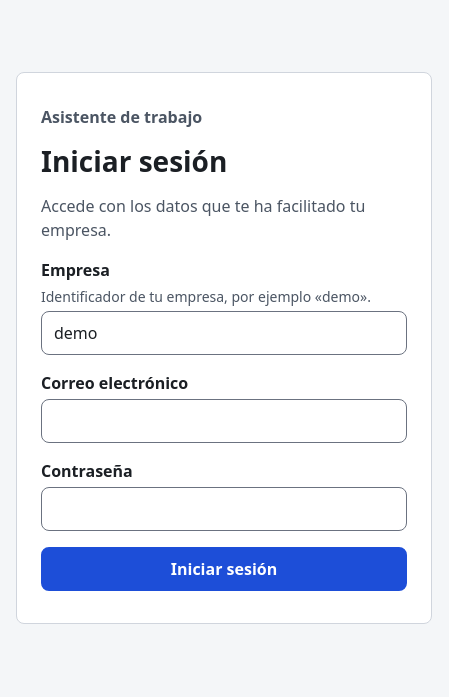
it: LoginPage › announces when the server cannot be reached
Expected: the heading "Iniciar sesión" is shown, [41,142,227,180]
Type "admin@demo.test" into the field labelled "Correo electrónico".
click(224, 421); type("admin@demo.test")  # box [41,399,407,443]
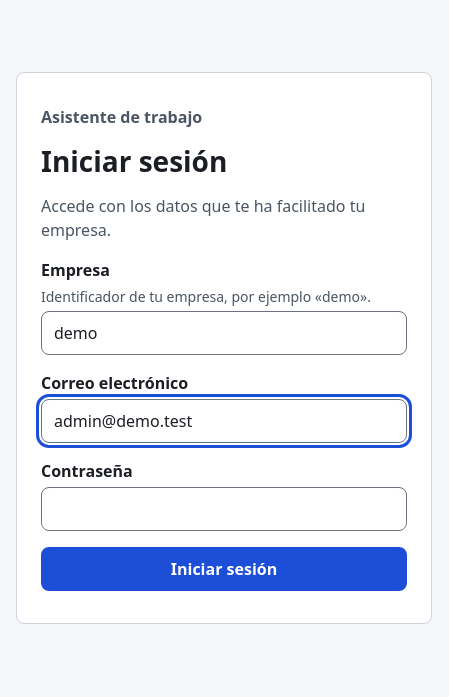
Type "demo-admin-pass" into the password field labelled "Contraseña".
click(224, 509); type("demo-admin-pass")  # box [41,487,407,531]
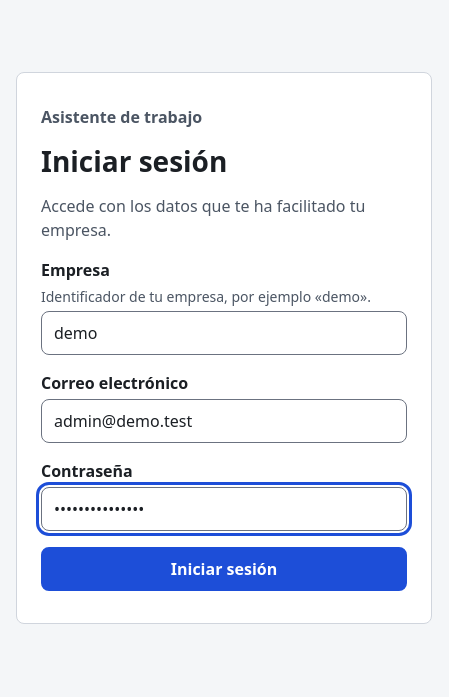
Click the button "Iniciar sesión".
click(224, 569)  # box [41,547,407,591]
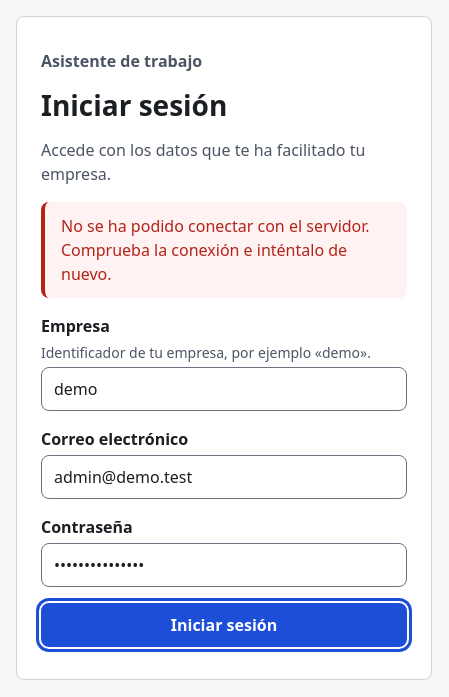
Expected: the button "Iniciar sesión" is enabled, [41,603,407,647]
Now the message shows "No se ha podido conectar con el servidor", box [61,215,370,285]
